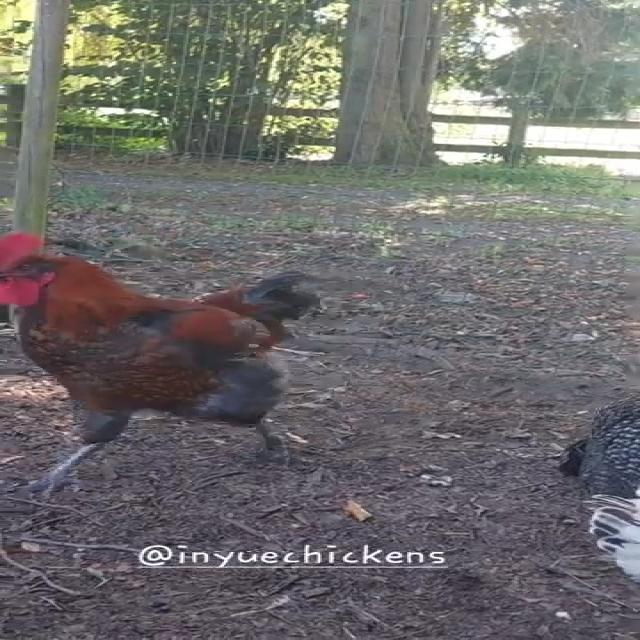running: (0, 206, 334, 490)
